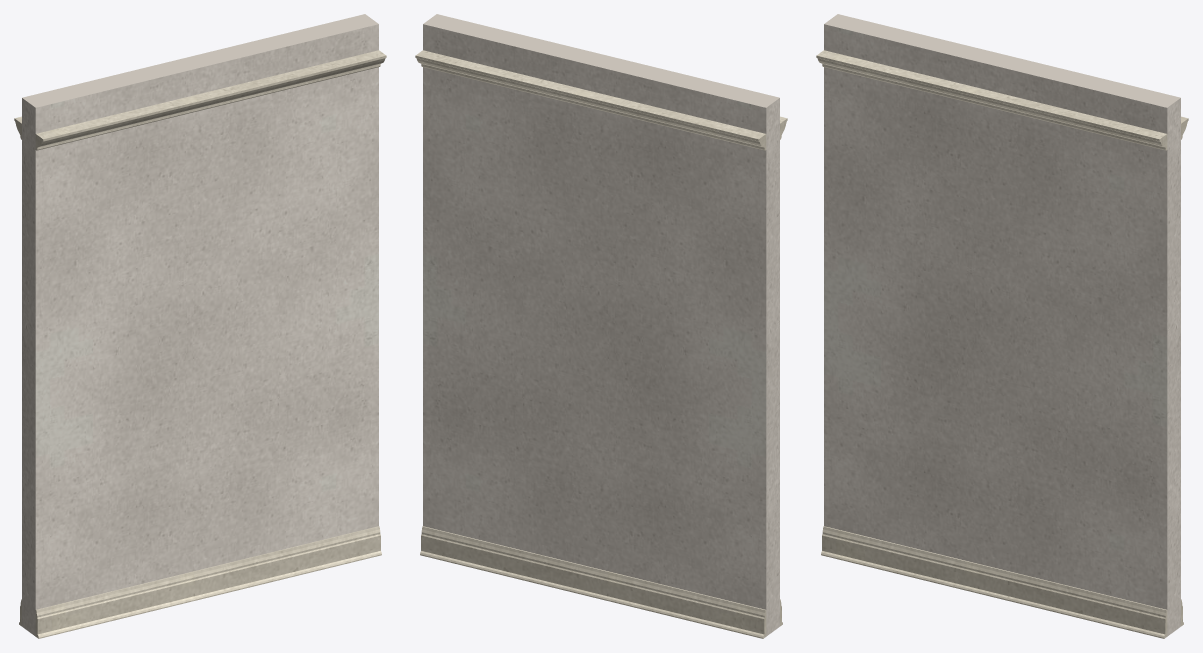
File: iw_plain.glb
3 views of the same model, side by side, from view 1: azimuth 30°, elevation 25°; view 2: azimuth 150°, elevation 25°; view 3: azimuth 330°, elevation 25° (orthographic).
Visible parts, largest first — view 1: iw_plain_plaster, molduras; view 2: iw_plain_plaster, molduras; view 3: iw_plain_plaster, molduras.
Part boxes in pixels (bbox=[...]): iw_plain_plaster: bbox=[22, 14, 378, 636]; molduras: bbox=[14, 50, 386, 638]; iw_plain_plaster: bbox=[423, 14, 779, 636]; molduras: bbox=[415, 50, 787, 638]; iw_plain_plaster: bbox=[824, 14, 1180, 636]; molduras: bbox=[816, 50, 1188, 638].
Bounding box in the file's own units: 2 × 2.94 × 0.29.
2 materials, 2 textured.
